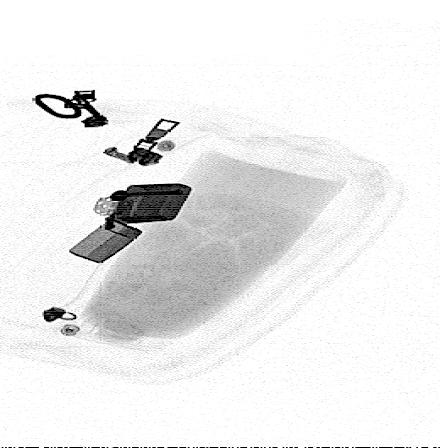Lighter: (68, 183, 194, 264)
